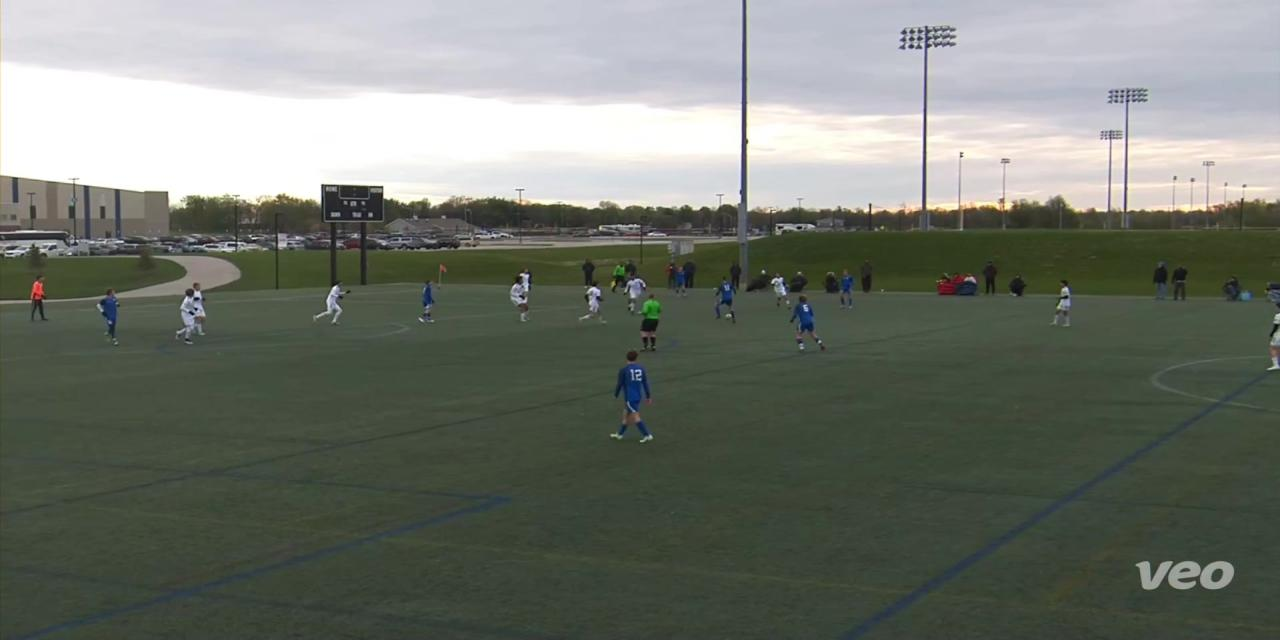sports ball: (722, 308, 736, 325)
